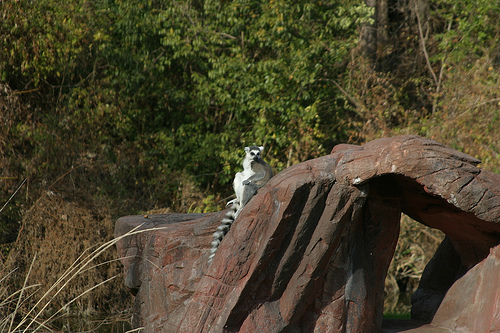cat: (209, 146, 271, 264)
